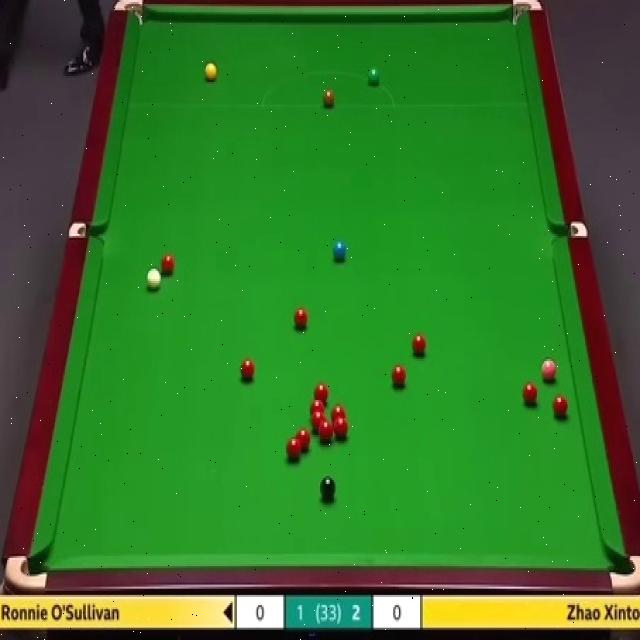black-ball: (319, 476, 336, 498)
blue-ball: (332, 240, 348, 262)
brown-ball: (322, 88, 334, 108)
green-ball: (368, 65, 380, 86)
pink-ball: (540, 358, 558, 382)
red-ball: (522, 380, 538, 406), (293, 306, 309, 331), (552, 393, 568, 418), (334, 415, 349, 440), (287, 436, 302, 461), (410, 333, 427, 355), (296, 427, 310, 452), (160, 254, 175, 276), (391, 364, 405, 387), (240, 357, 254, 379), (314, 382, 328, 404), (319, 420, 333, 442), (311, 411, 325, 432), (308, 399, 324, 417), (331, 404, 347, 419)
white-ball: (148, 268, 161, 294)
yellow-ball: (204, 62, 217, 84)
